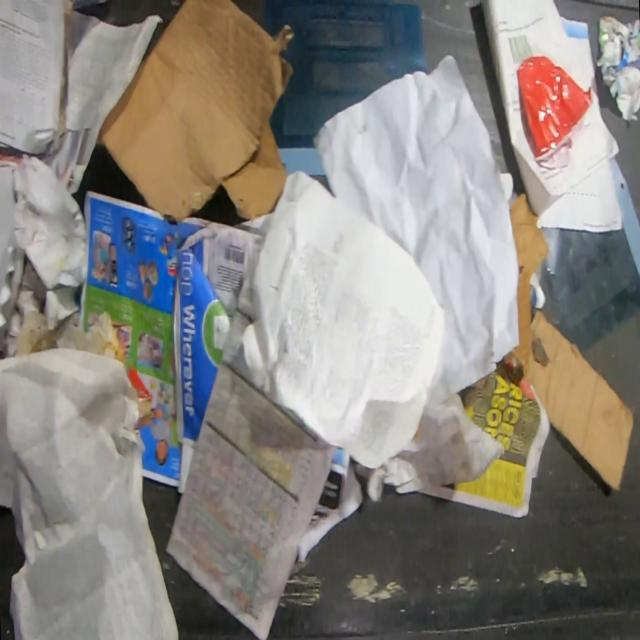cardboard: (94, 0, 294, 224), (526, 308, 634, 494), (503, 192, 548, 375)
rigid_plastic: (516, 55, 592, 170)
soft_plastic: (265, 0, 429, 176), (535, 157, 640, 354)
